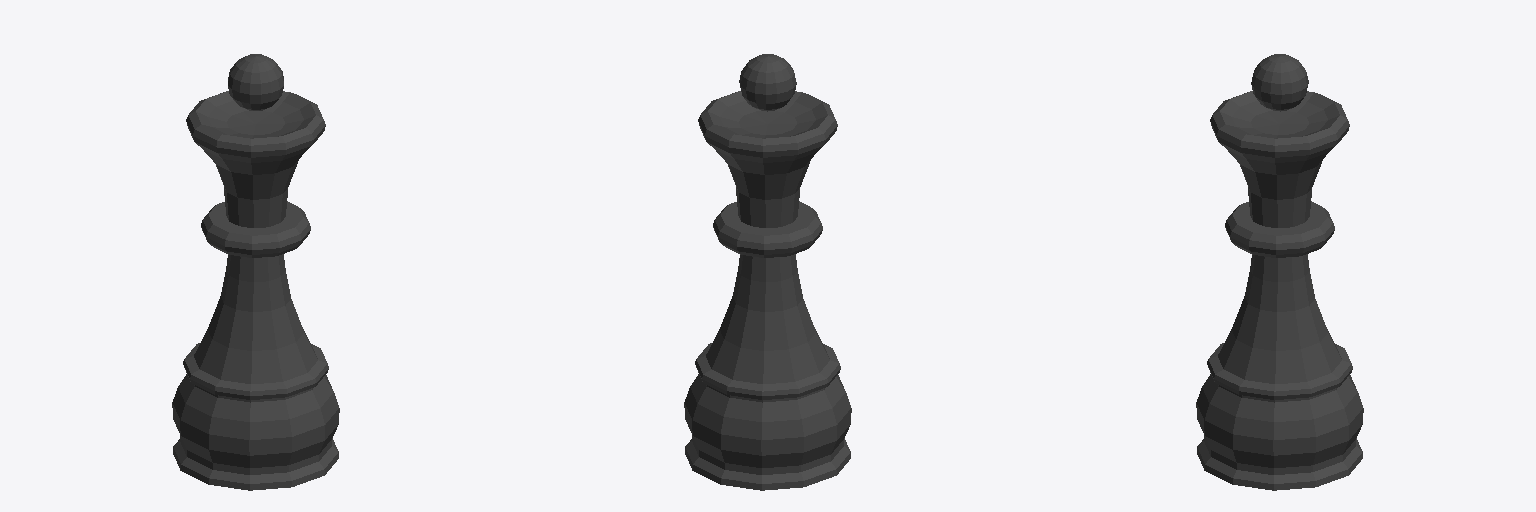
3 renders of one model, left to right at view 1: azimuth 30°, elevation 25°; view 2: azimuth 150°, elevation 25°; view 3: azimuth 270°, elevation 25°, orthographic.
Parts seen in each view (by area): view 1: _Queen; view 2: _Queen; view 3: _Queen.
Part boxes in pixels (x1,y1,x2,y2): _Queen: (172,54,339,490); _Queen: (684,54,851,490); _Queen: (1196,54,1363,490).
Bounding box in the file's own units: 3.33 × 8.78 × 3.33.